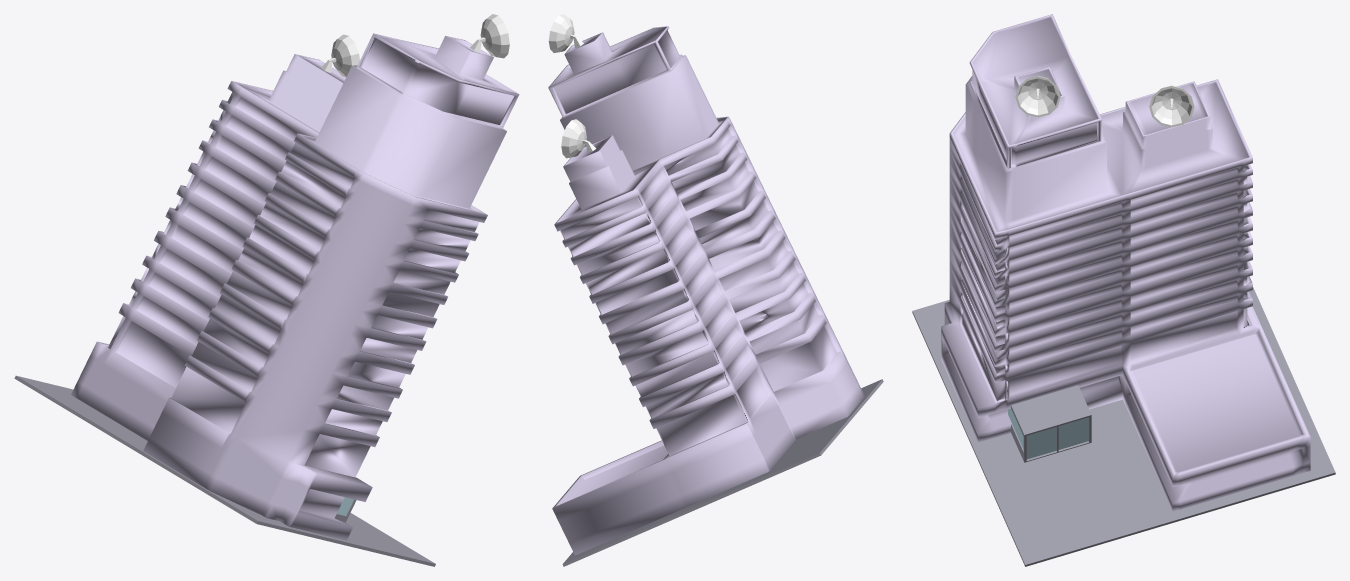
The model's file is building11.glb.
3 views of the same model, side by side, from view 1: azimuth 30°, elevation 25°; view 2: azimuth 150°, elevation 25°; view 3: azimuth 270°, elevation 25° (orthographic). The views are drawn at different scales.
Parts seen in each view (by area): view 1: sputnik_1; view 2: sputnik_1; view 3: sputnik_1.
Part boxes in pixels (box(x1,y1,x2,y2)): sputnik_1: box(14, 14, 519, 566); sputnik_1: box(548, 14, 883, 566); sputnik_1: box(912, 14, 1335, 566).
Bounding box in the file's own units: 0.8246 × 1.06 × 0.7694.
